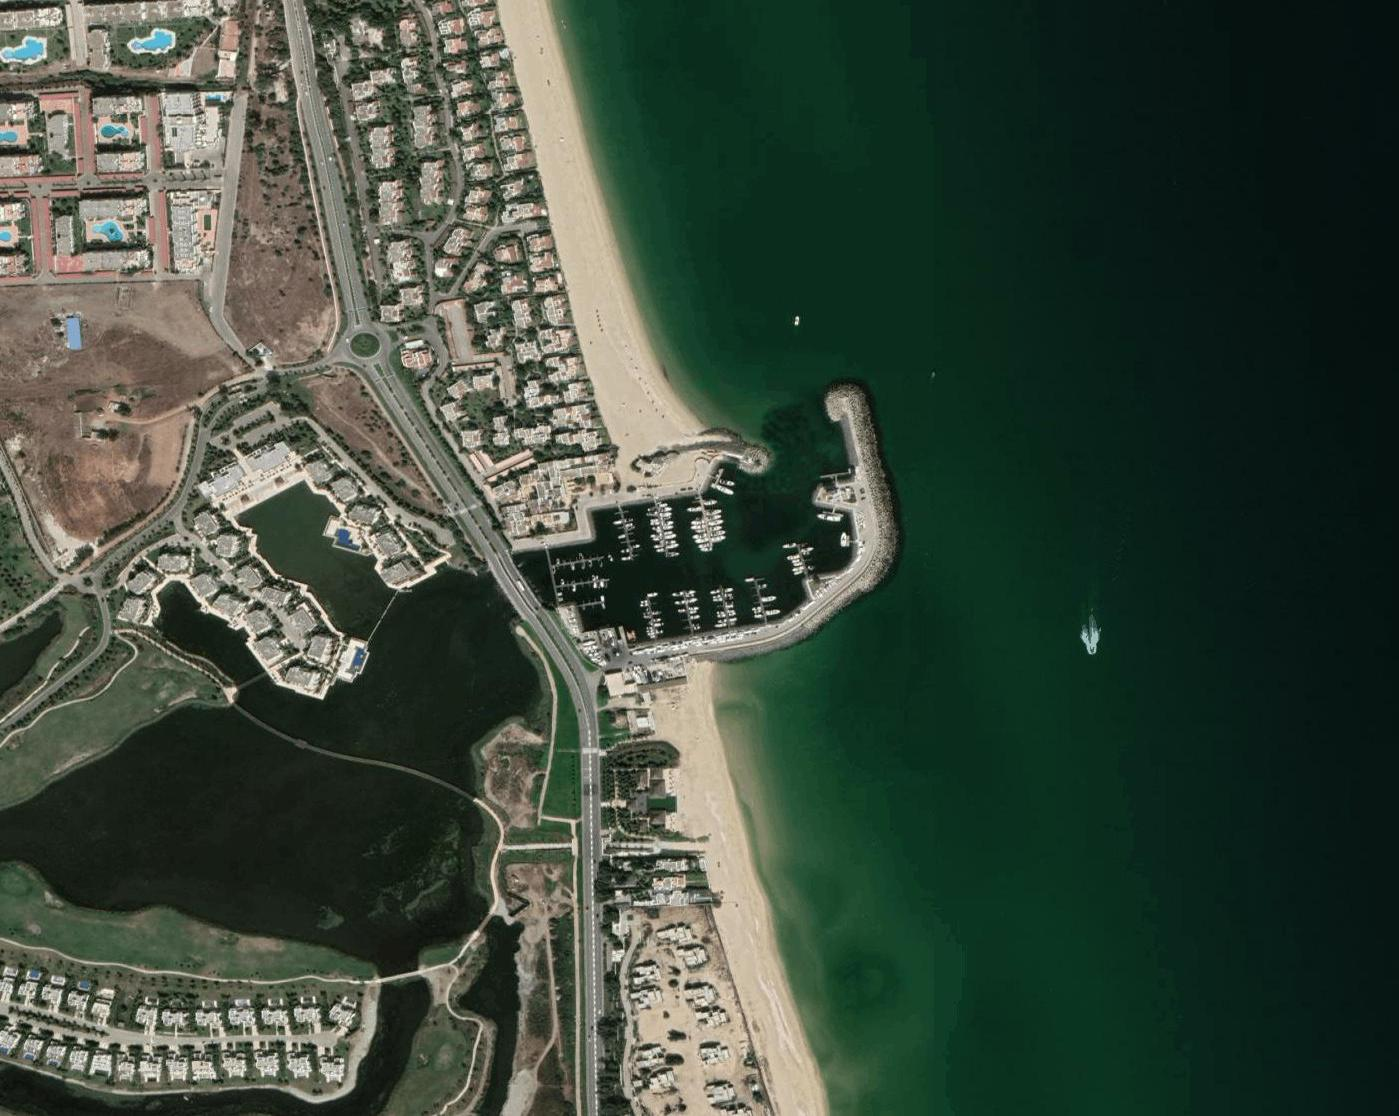harbor: (518, 359, 907, 694)
